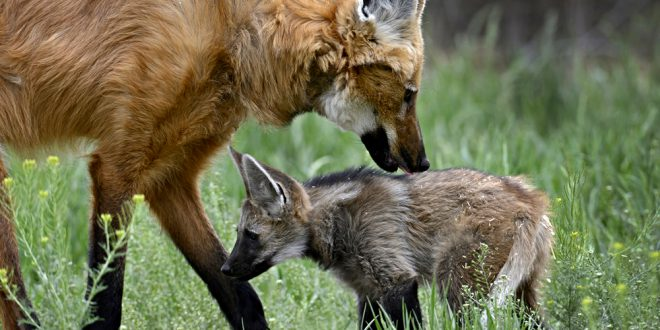LoboGuara: (4, 3, 432, 181), (220, 145, 567, 315)
